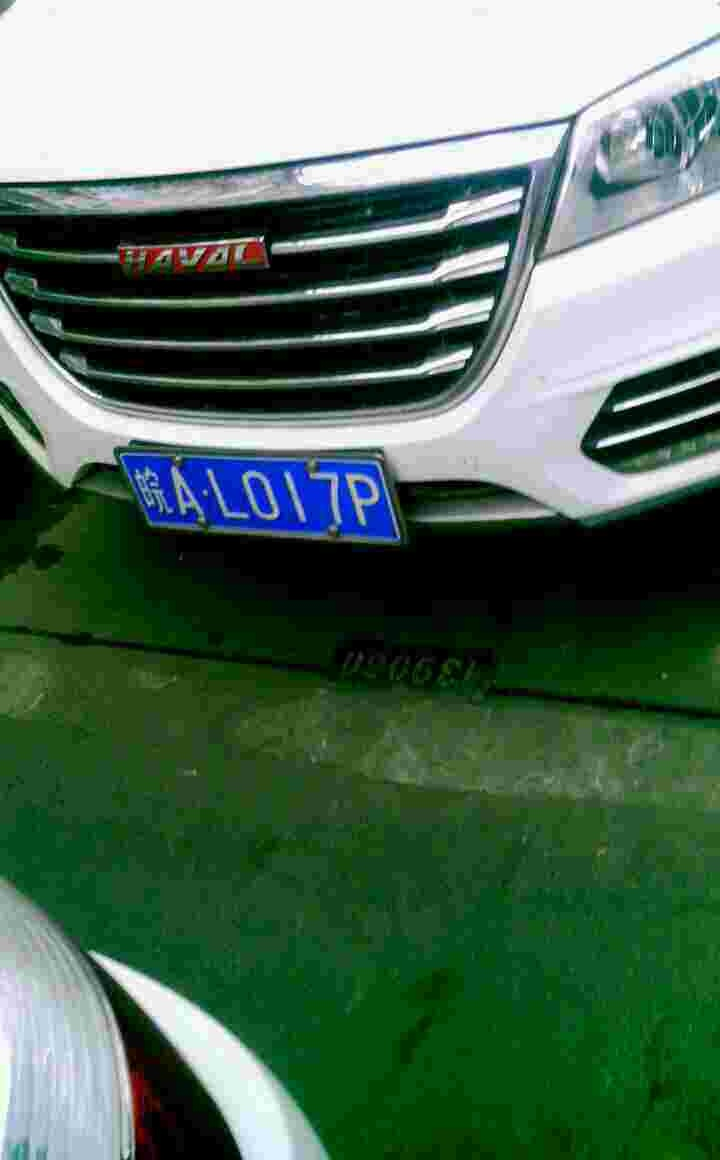plate: (113, 448, 409, 541)
